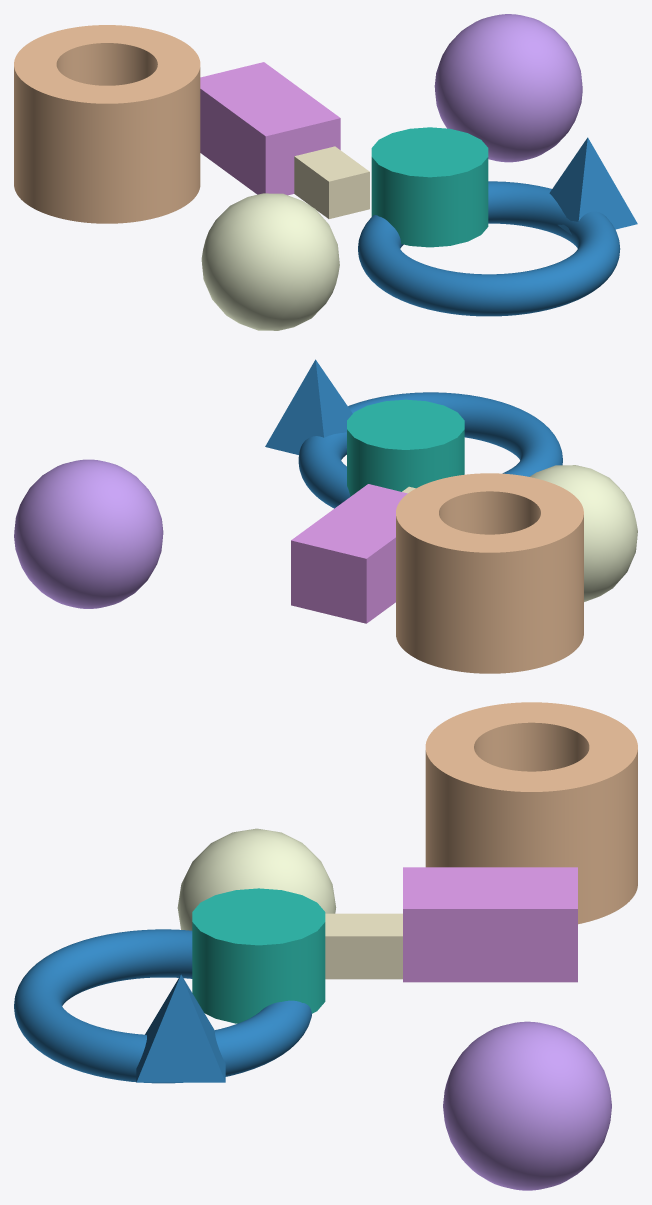
The picture shows the model from 3 angles, top to bottom: view 1: azimuth 30°, elevation 25°; view 2: azimuth 150°, elevation 25°; view 3: azimuth 270°, elevation 25°; orthographic projection. The views are drawn at different scales.
Visible parts, largest first — view 1: Tube001, Torus001, Sphere001, GeoSphere001, Box001, Cylinder001, Box002, Pyramid001; view 2: Tube001, Sphere001, Box001, Cylinder001, Torus001, GeoSphere001, Pyramid001; view 3: Tube001, Sphere001, Box001, Torus001, Cylinder001, GeoSphere001, Pyramid001, Box002.
Part boxes in pixels (bbox=[...]): Tube001: bbox=[14, 25, 200, 223]; Torus001: bbox=[358, 181, 620, 316]; Sphere001: bbox=[434, 14, 582, 162]; GeoSphere001: bbox=[201, 193, 339, 330]; Box001: bbox=[200, 62, 340, 195]; Cylinder001: bbox=[371, 127, 488, 247]; Box002: bbox=[294, 146, 369, 218]; Pyramid001: bbox=[549, 137, 637, 235]; Tube001: bbox=[396, 473, 583, 673]; Sphere001: bbox=[14, 459, 163, 608]; Box001: bbox=[291, 484, 407, 623]; Cylinder001: bbox=[347, 399, 464, 496]; Torus001: bbox=[298, 392, 562, 508]; GeoSphere001: bbox=[529, 465, 637, 601]; Pyramid001: bbox=[265, 359, 352, 454]; Tube001: bbox=[425, 702, 637, 924]; Sphere001: bbox=[443, 1021, 611, 1190]; Box001: bbox=[403, 867, 577, 982]; Torus001: bbox=[14, 929, 311, 1083]; Cylinder001: bbox=[192, 888, 325, 1023]; GeoSphere001: bbox=[177, 828, 336, 930]; Pyramid001: bbox=[136, 974, 225, 1082]; Box002: bbox=[325, 913, 402, 979].
Bounding box in the file's own units: 0.1575 × 0.0517 × 0.1371.
